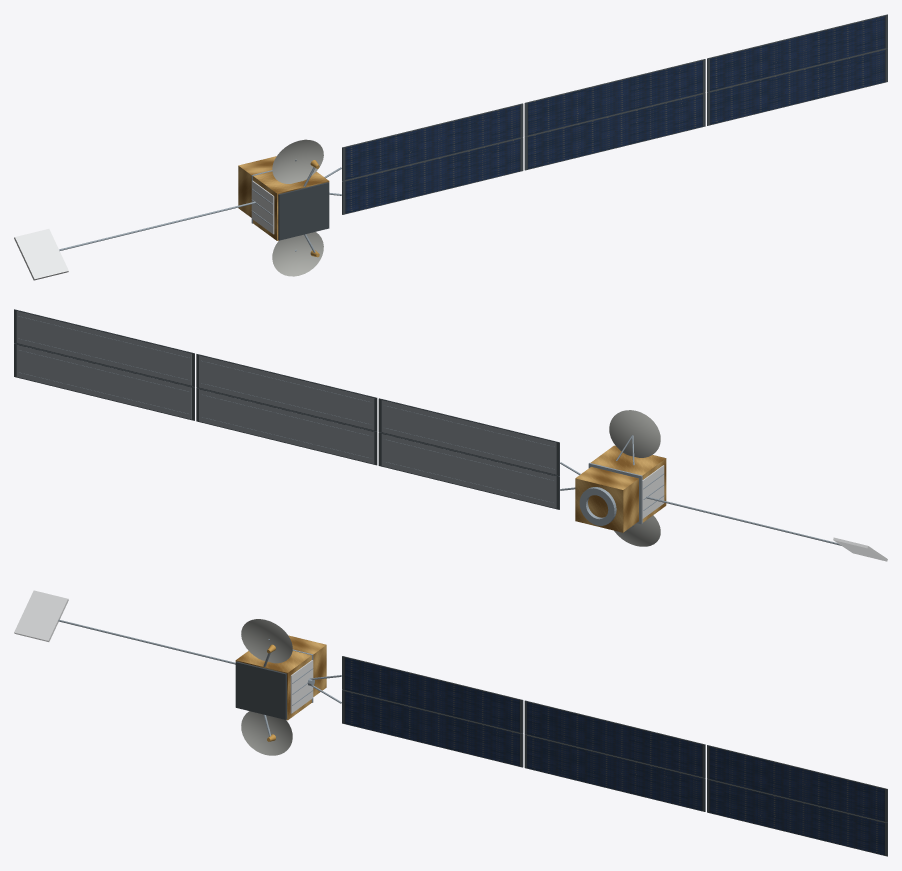
The model's file is ref-insat-13129.glb.
The picture shows the model from 3 angles, top to bottom: view 1: azimuth 30°, elevation 25°; view 2: azimuth 150°, elevation 25°; view 3: azimuth 330°, elevation 25°; orthographic projection.
Parts seen in each view (by area): view 1: Solar cell panel (×6), Solar panel frame (×6), Communications reflector (×2), Earth-facing deck, Solar pressure sail, Payload module, Service module, Radiator face; view 2: Rear array substrate (×6), Solar panel frame (×6), Service module, Communications reflector (×2), Payload module, Radiator face, Launch adapter ring, Outboard boom; view 3: Solar cell panel (×6), Solar panel frame (×6), Communications reflector (×2), Earth-facing deck, Solar pressure sail, Payload module, Service module, Radiator face.
Boxes of the visible parts, x1,y1,x2,y2 form: Solar cell panel (×6): (345,16,885,213); Solar panel frame (×6): (342,14,887,214); Communications reflector (×2): (272,139,323,276); Earth-facing deck: (278,182,329,240); Solar pressure sail: (14,229,68,280); Payload module: (253,171,329,240); Service module: (238,156,276,217); Radiator face: (251,180,274,234); Rear array substrate (×6): (16,311,556,508); Solar panel frame (×6): (14,309,559,509); Service module: (575,467,638,532); Communications reflector (×2): (609,410,660,546); Payload module: (590,445,666,522); Radiator face: (642,465,664,518); Launch adapter ring: (579,487,616,525); Outboard boom: (646,496,841,545); Solar cell panel (×6): (344,657,884,855); Solar panel frame (×6): (342,656,887,856); Communications reflector (×2): (241,619,292,755); Earth-facing deck: (235,661,286,719); Solar pressure sail: (14,590,68,641); Payload module: (235,650,311,720); Service module: (288,635,326,696); Radiator face: (290,660,313,713).
Bounding box in the file's own units: 26.5 × 3.96 × 2.51.
Materials: 8 (2 with a texture image).
